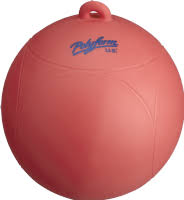buoy: (1, 14, 184, 199)
